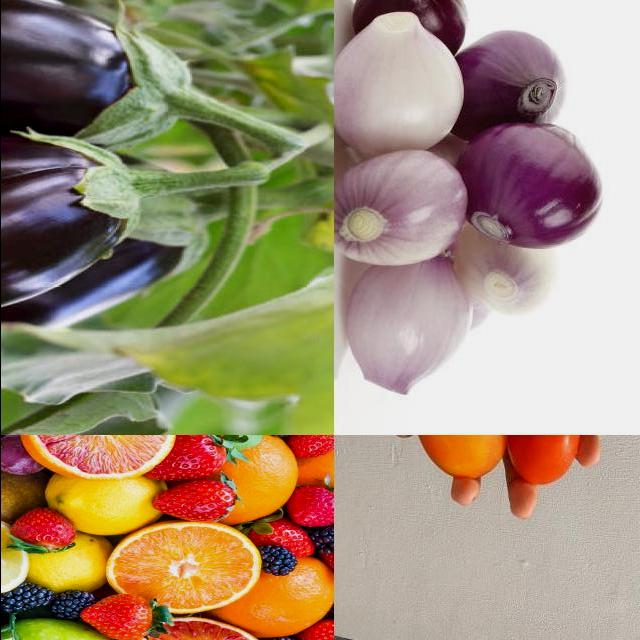eggplant: (1, 1, 184, 156), (1, 138, 158, 315)
onion: (334, 13, 479, 157), (456, 122, 606, 244), (339, 262, 473, 394), (334, 147, 459, 265), (444, 27, 571, 136), (449, 238, 567, 323), (346, 1, 467, 60)
tomato: (409, 436, 510, 481), (508, 436, 584, 485)
